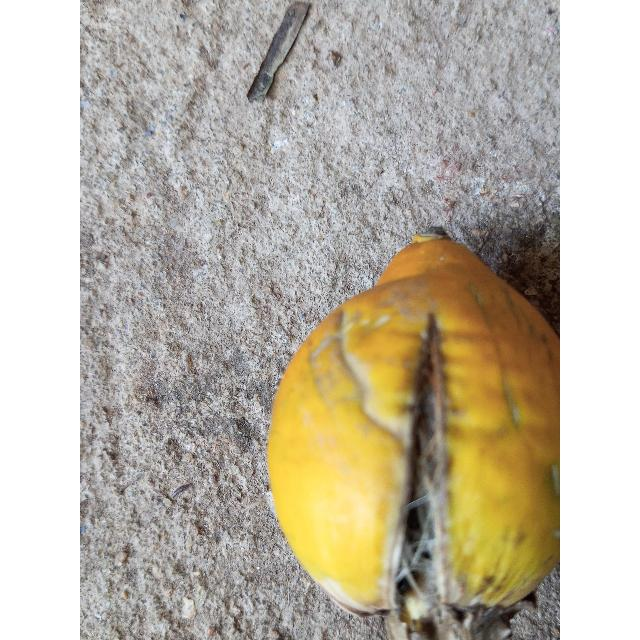damaged: (266, 235, 560, 638)
